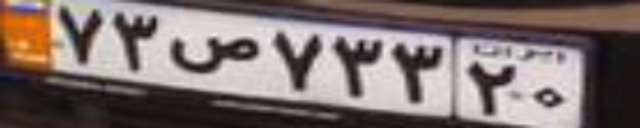0: (524, 88, 566, 108)
2: (463, 61, 517, 116)
3: (389, 43, 445, 106), (108, 9, 164, 72), (328, 36, 383, 98)
7: (268, 31, 325, 93), (54, 5, 105, 65)
saat: (168, 34, 262, 76)
